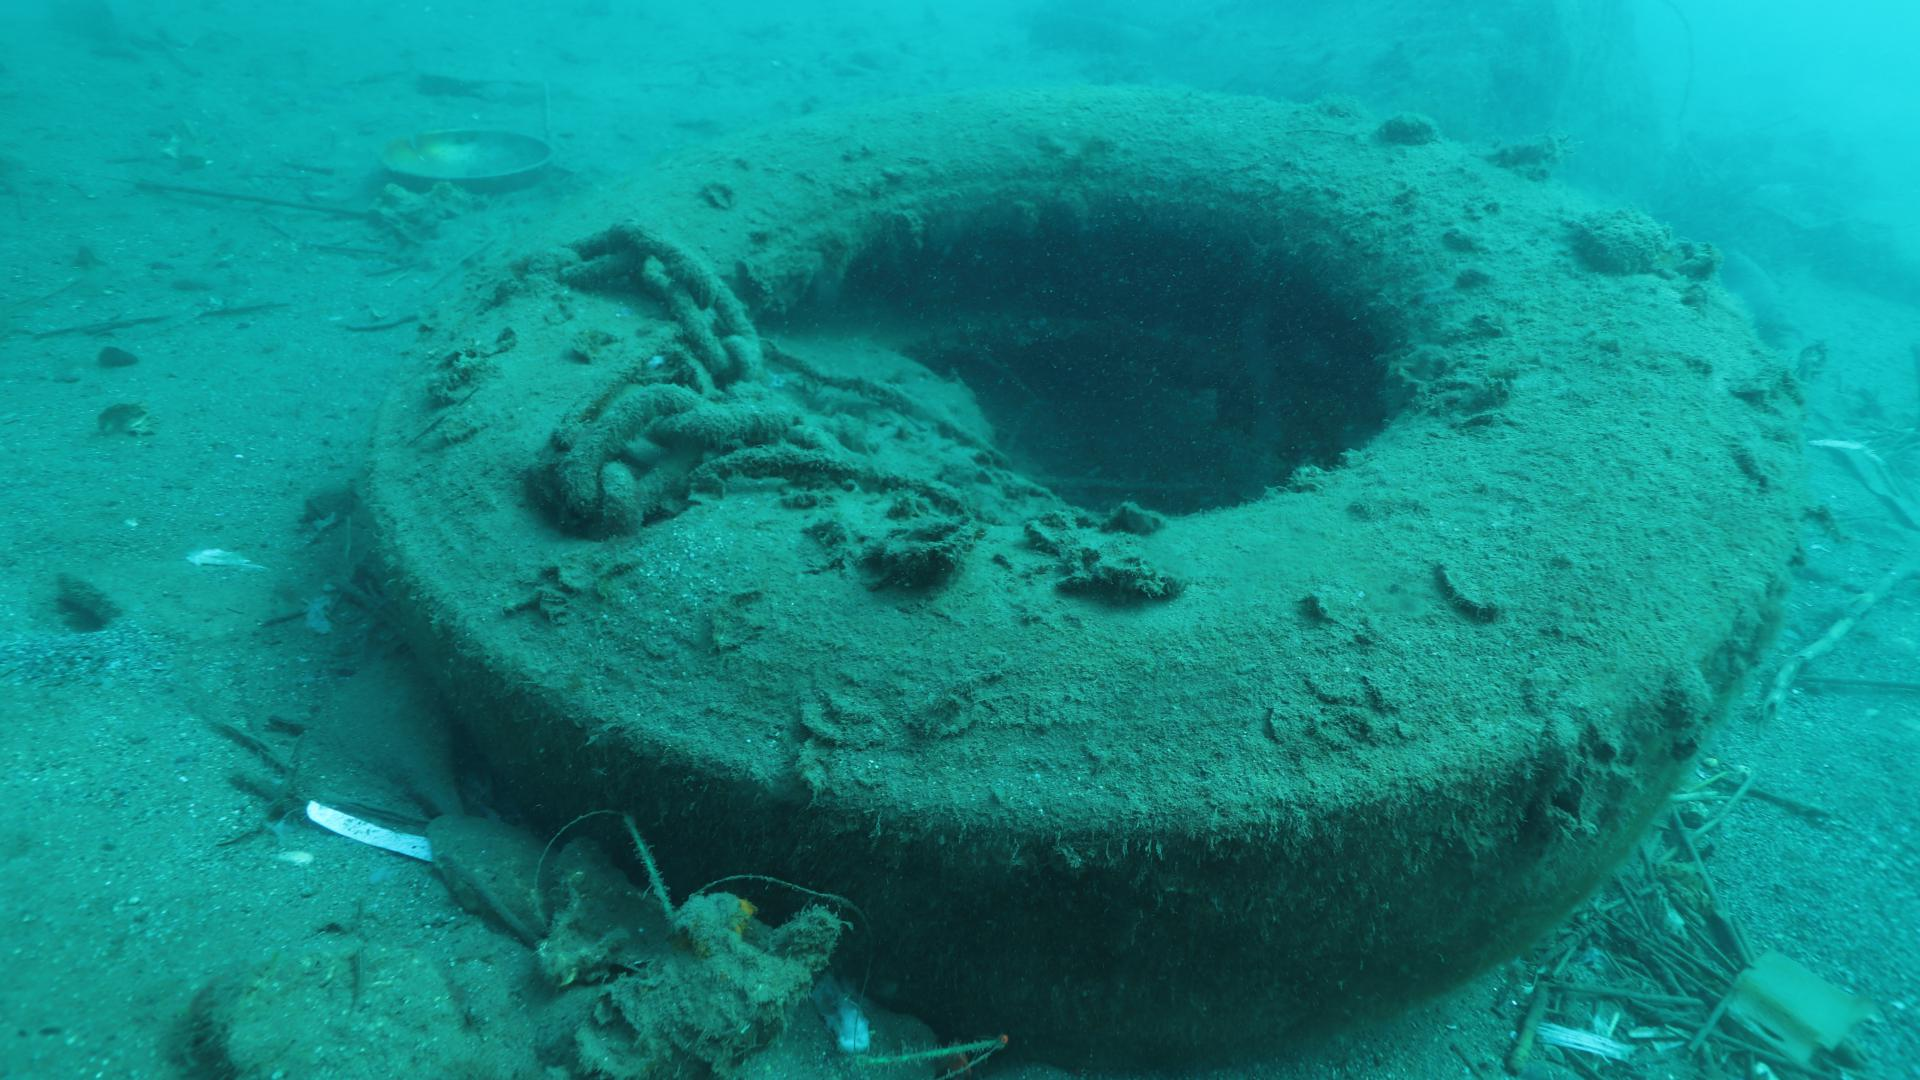tire: (368, 82, 1807, 1064)
